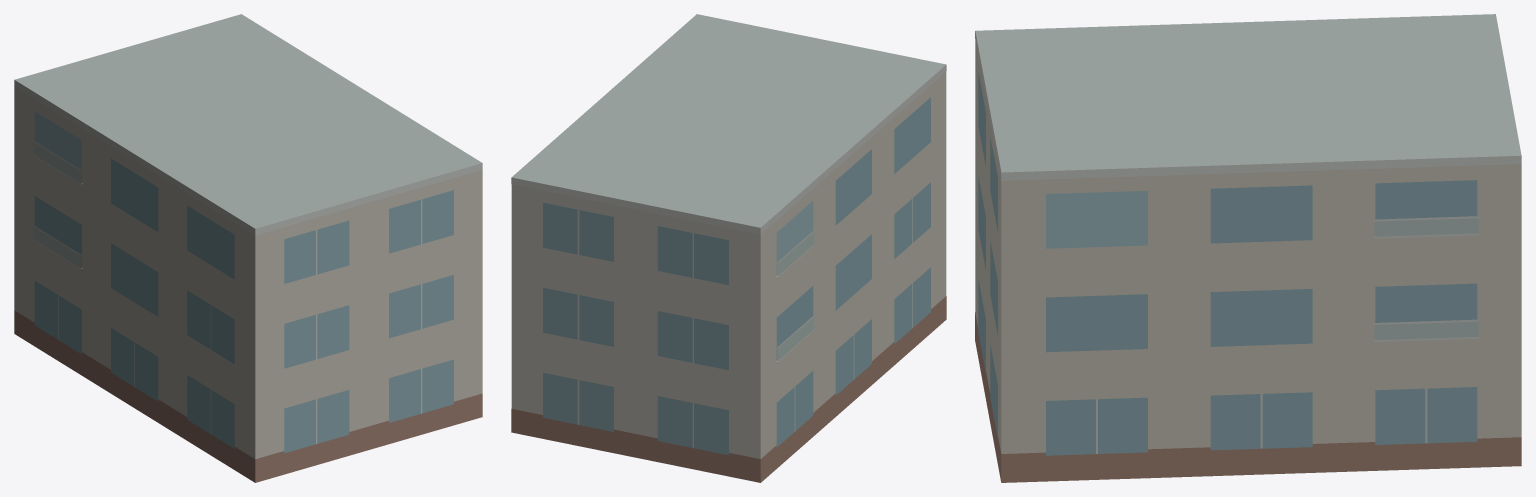
Rendered from survey-upis-32701311.glb.
3 renders of one model, left to right at view 1: azimuth 30°, elevation 25°; view 2: azimuth 150°, elevation 25°; view 3: azimuth 270°, elevation 25°, orthographic. The views are drawn at different scales.
Parts seen in each view (by area): view 1: survey-upis-32701311.tmp; view 2: survey-upis-32701311.tmp; view 3: survey-upis-32701311.tmp.
Boxes of the visible parts, x1,y1,x2,y2 form: survey-upis-32701311.tmp: [14, 14, 482, 482]; survey-upis-32701311.tmp: [511, 14, 946, 482]; survey-upis-32701311.tmp: [975, 14, 1521, 482].
Size of the model in its own units: 10.03 by 9.15 by 14.61.
